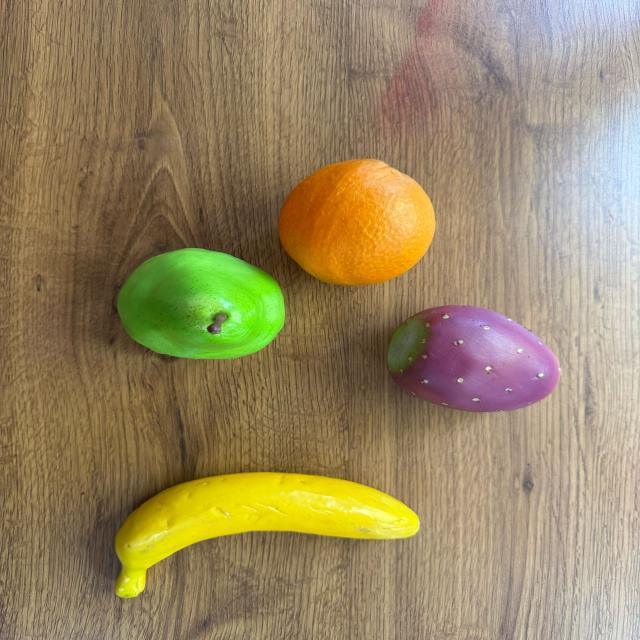banana: (114, 469, 423, 601)
orange: (275, 157, 437, 286)
pear: (114, 248, 287, 360)
tuna: (388, 304, 557, 410)
